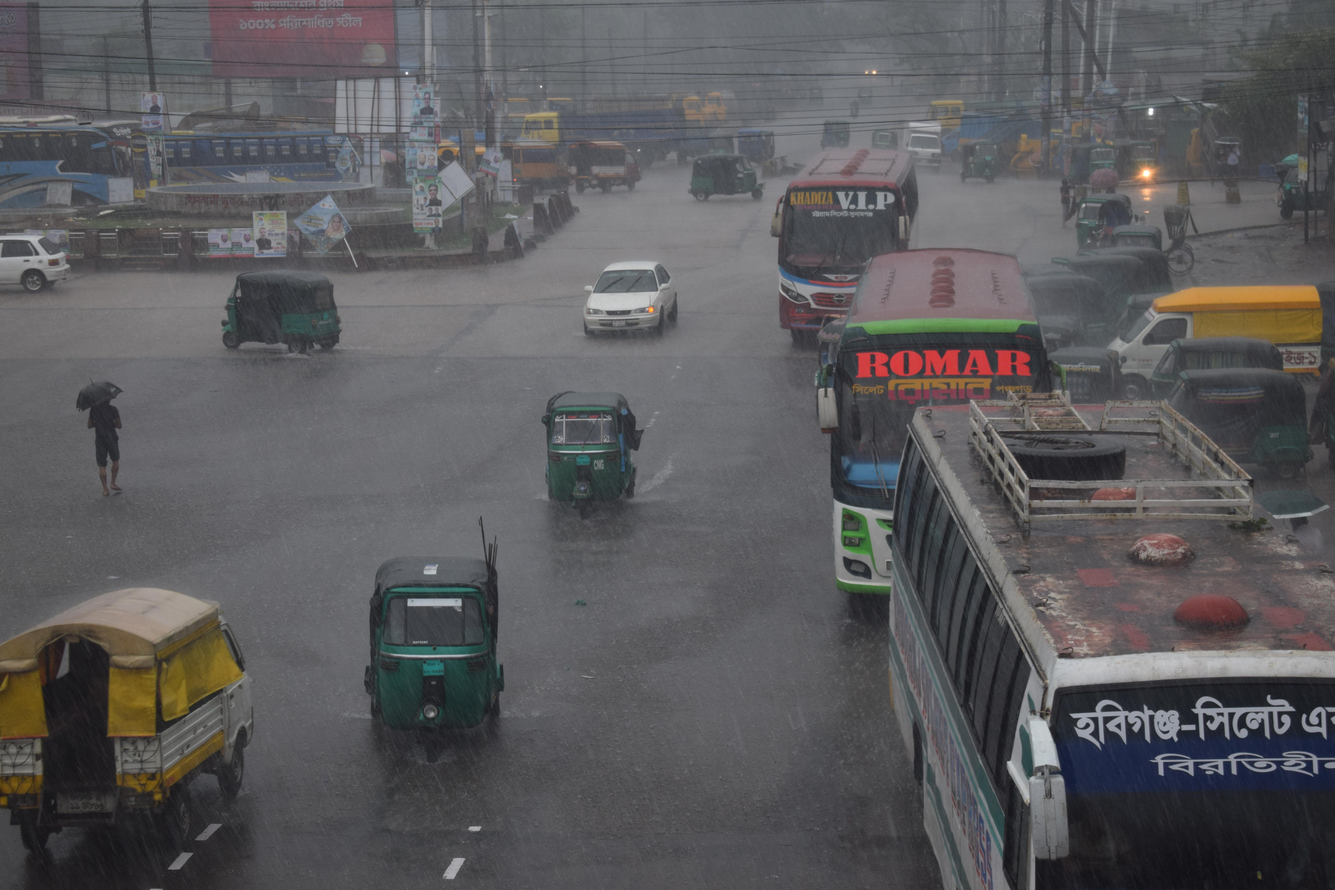Bus: (841, 382, 1335, 890), (782, 203, 1039, 624), (748, 121, 936, 364), (128, 101, 381, 238), (0, 101, 153, 263)
Car: (0, 537, 289, 890), (1092, 279, 1335, 381), (556, 231, 705, 368), (0, 208, 103, 306), (552, 129, 663, 202)
